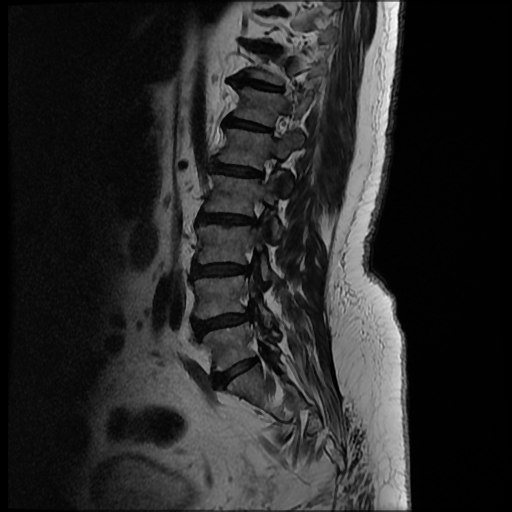RFS0: (248, 149, 285, 188)
